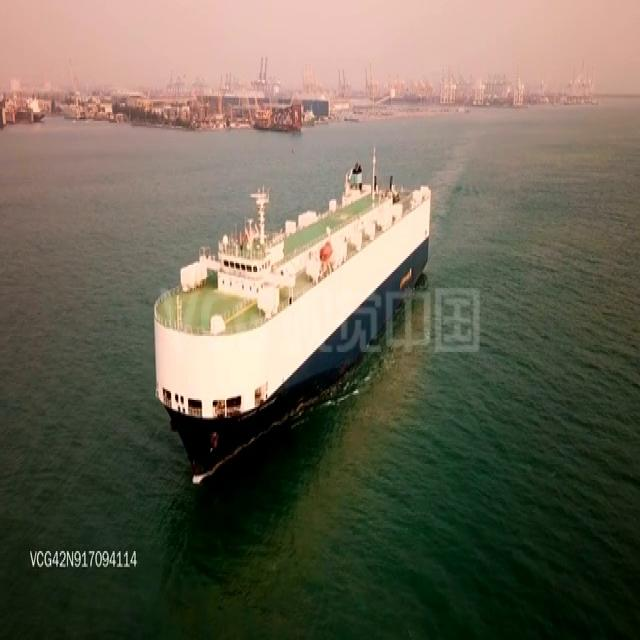cargoship: (146, 148, 434, 472)
